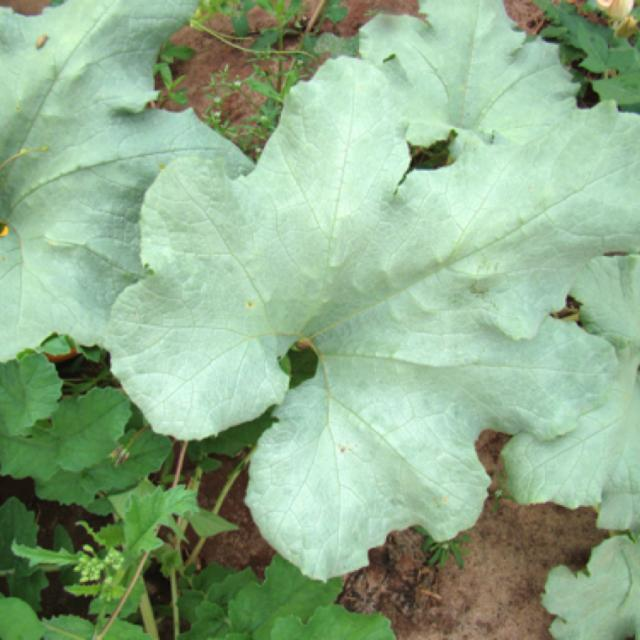Whitefly: (1, 13, 640, 519)
